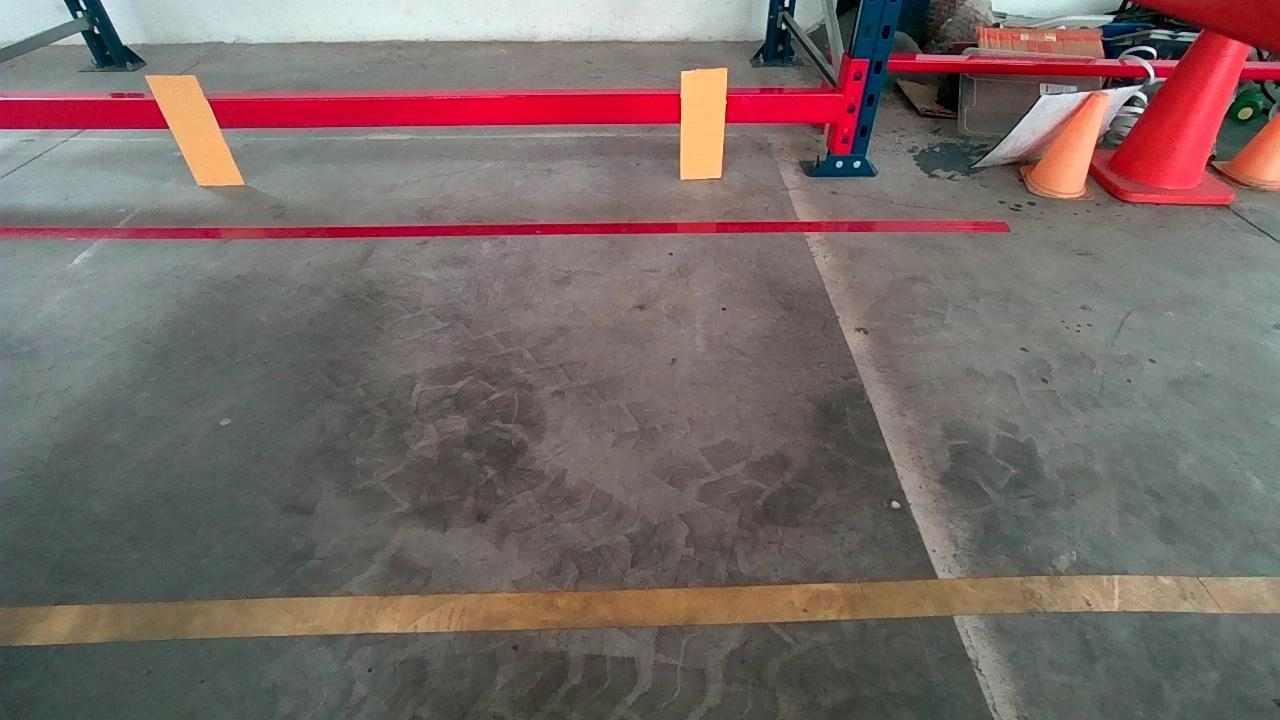h_rack: (1, 90, 849, 133)
orange_strip: (146, 76, 243, 182), (680, 70, 726, 178)
red_line: (5, 215, 1000, 238)
yellow_line: (9, 570, 1263, 649)
